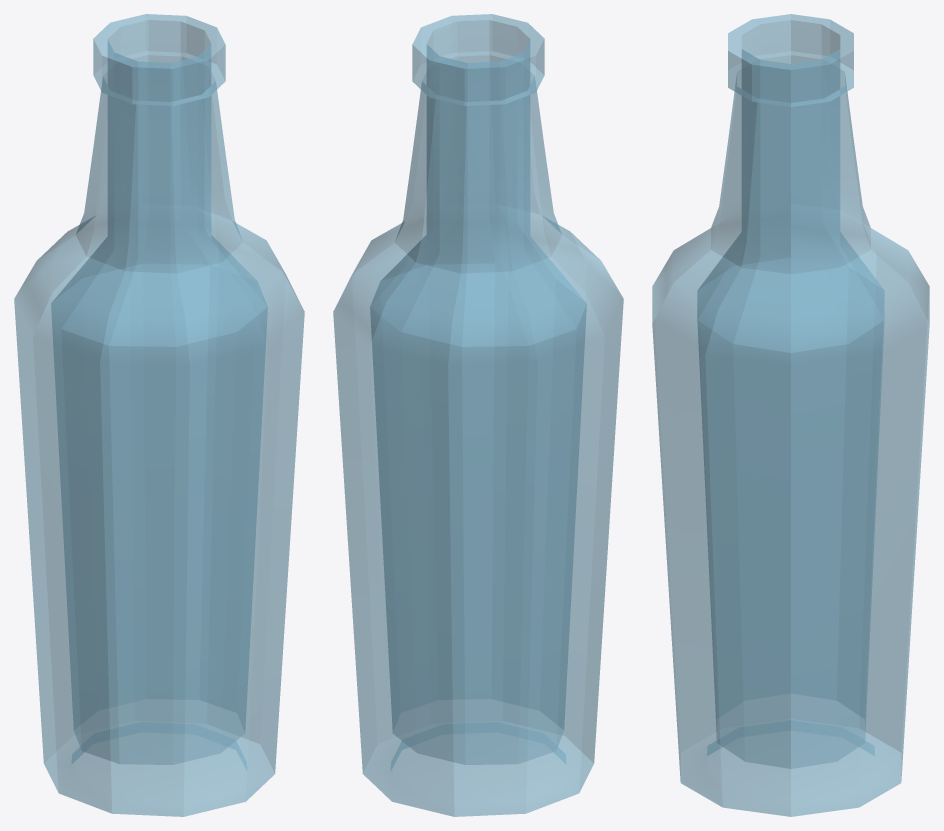
The model's file is Botella (1).fbx.
3 renders of one model, left to right at view 1: azimuth 30°, elevation 25°; view 2: azimuth 150°, elevation 25°; view 3: azimuth 270°, elevation 25°, orthographic.
Visible parts, largest first — view 1: pasted__pasted__pCylinder1; view 2: pasted__pasted__pCylinder1; view 3: pasted__pasted__pCylinder1.
Boxes of the visible parts, <box> form: pasted__pasted__pCylinder1: <box>14,14,304,816</box>; pasted__pasted__pCylinder1: <box>333,14,623,816</box>; pasted__pasted__pCylinder1: <box>652,14,929,816</box>.
Bounding box in the file's own units: 2.51 × 6.9 × 2.39.
